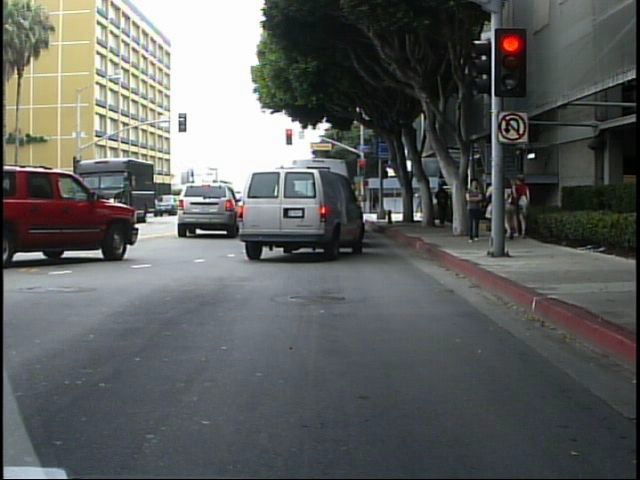person: (500, 171, 524, 252), (516, 171, 537, 242), (467, 175, 487, 245), (431, 175, 453, 230), (412, 185, 424, 217)
